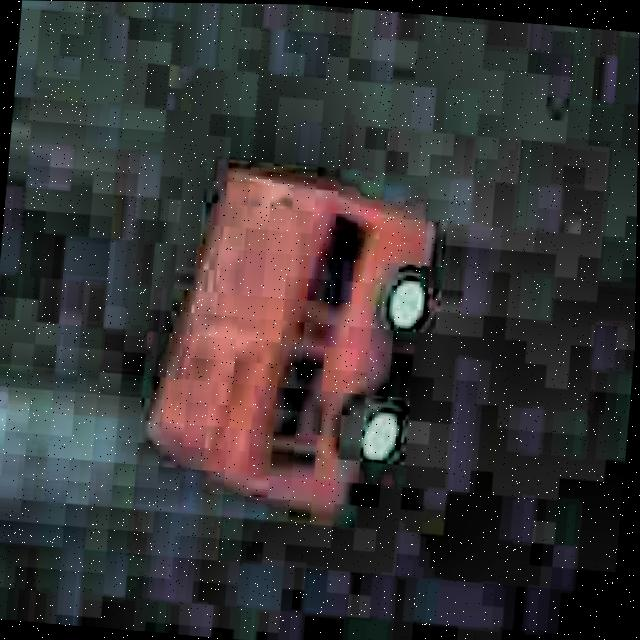bus: (140, 146, 455, 528)
